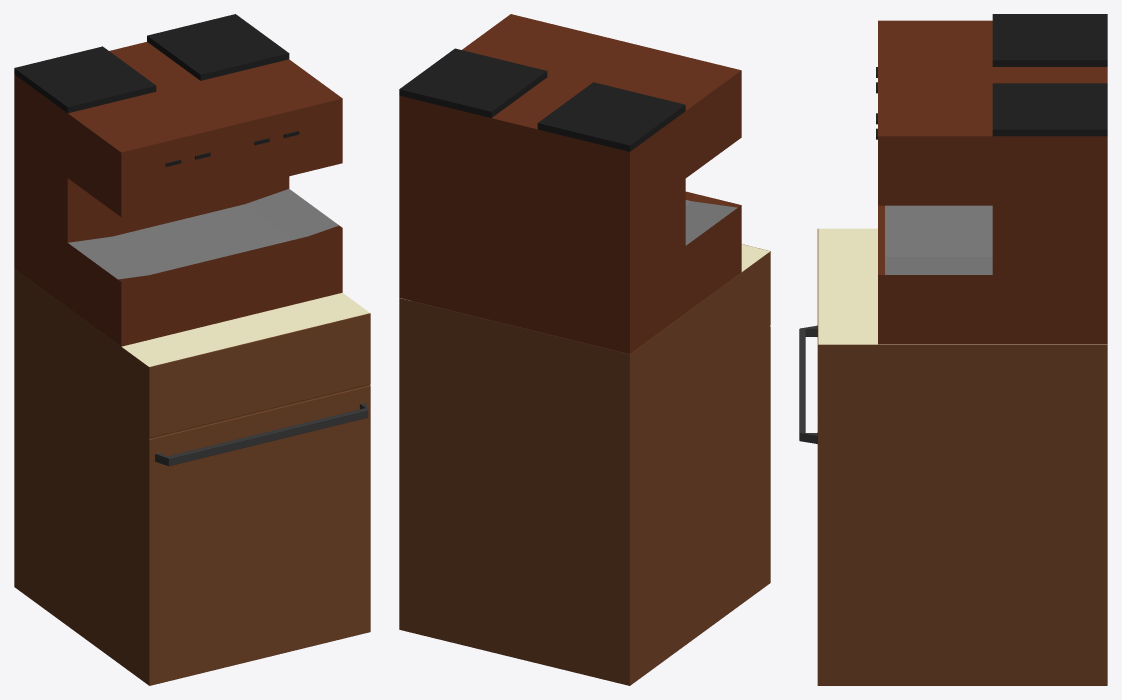
Rendered from Der_Maschine.fbx.
3 views of the same model, side by side, from view 1: azimuth 30°, elevation 25°; view 2: azimuth 150°, elevation 25°; view 3: azimuth 270°, elevation 25° (orthographic). The views are drawn at different scales.
Visible parts, largest first — view 1: Kuechenschrank_1, Cube; view 2: Kuechenschrank_1, Cube; view 3: Kuechenschrank_1, Cube.
Boxes of the visible parts, left/top/right/bottom form: Kuechenschrank_1: left=14, top=268, right=370, bottom=685; Cube: left=14, top=14, right=342, bottom=346; Kuechenschrank_1: left=399, top=244, right=770, bottom=685; Cube: left=399, top=14, right=741, bottom=353; Kuechenschrank_1: left=799, top=228, right=1107, bottom=685; Cube: left=876, top=14, right=1107, bottom=344.
Size of the model in its own units: 75.81 by 170 by 85.2.
